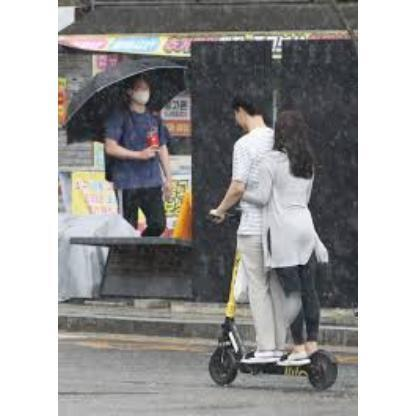with scooter: (208, 93, 338, 391)
without scooter: (103, 76, 172, 238)
